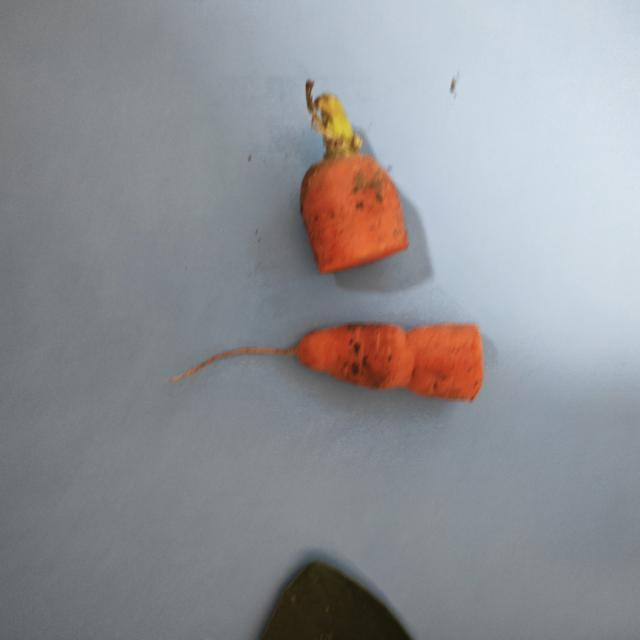-Kitchen waste - carrot-: (302, 91, 410, 278), (294, 323, 484, 403)
